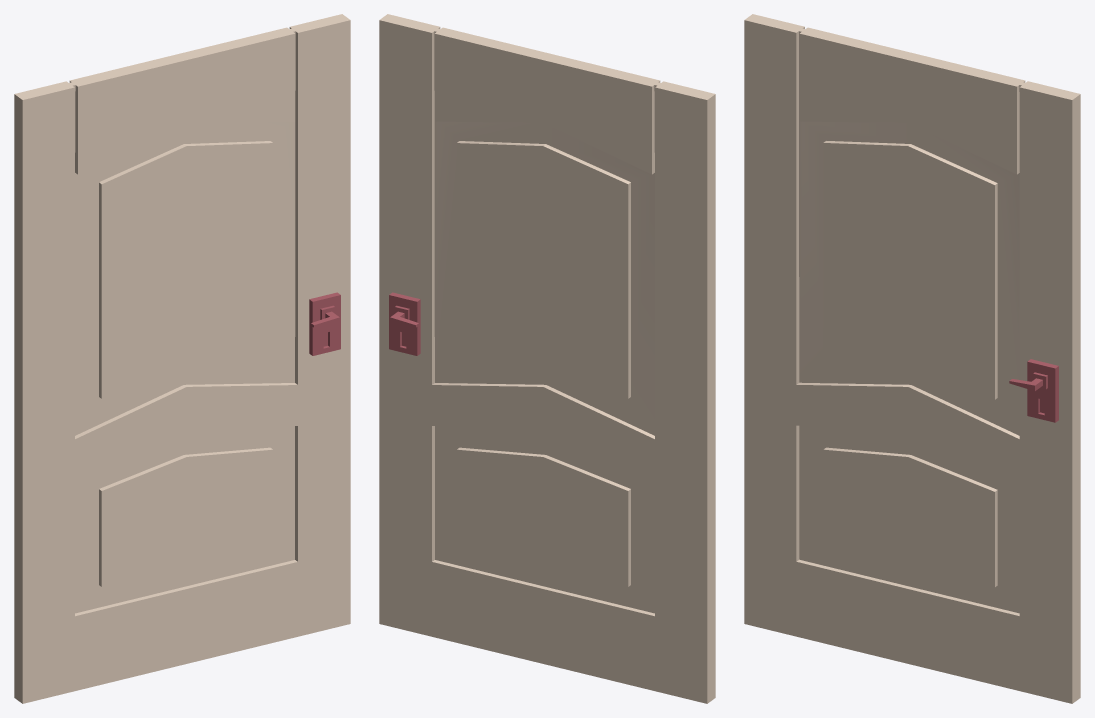
The model's file is SM_Door_1_05.fbx.
3 renders of one model, left to right at view 1: azimuth 30°, elevation 25°; view 2: azimuth 150°, elevation 25°; view 3: azimuth 330°, elevation 25°, orthographic.
Visible parts, largest first — view 1: SM_Door_1_05; view 2: SM_Door_1_05; view 3: SM_Door_1_05.
Boxes of the visible parts, left/top/right/bottom form: SM_Door_1_05: left=14, top=14, right=350, bottom=703; SM_Door_1_05: left=379, top=14, right=715, bottom=703; SM_Door_1_05: left=744, top=14, right=1080, bottom=703.
Size of the model in its own units: 121 by 213 by 22.18.
